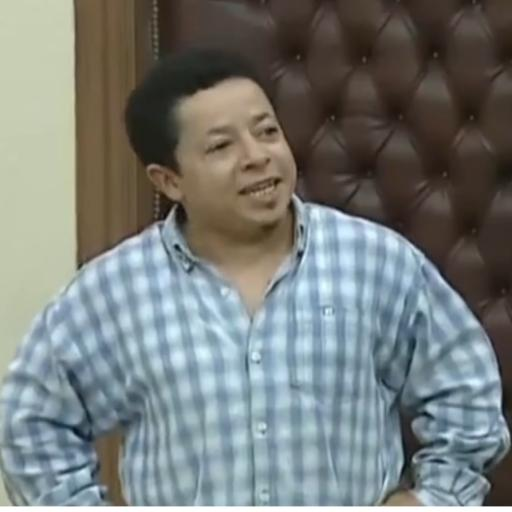fouchika: (125, 50, 296, 247)
